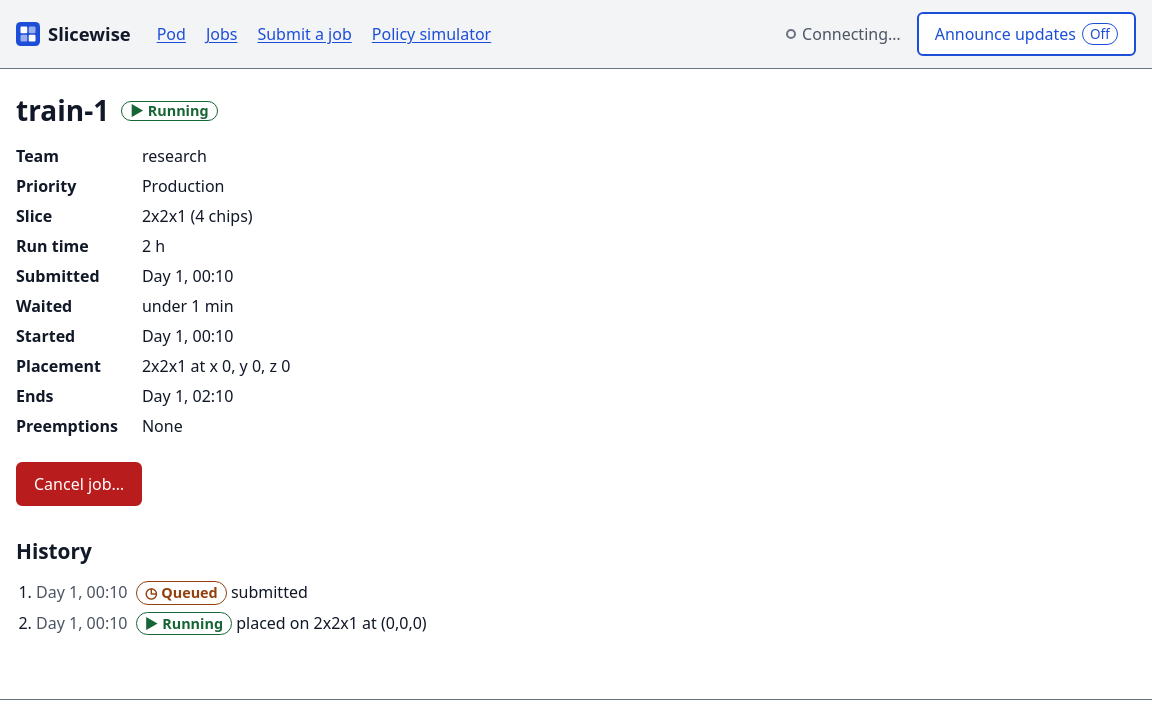
it: job page › confirms before cancelling, then announces it and moves focus to the heading
Expected: the text "2x2x1 at x 0, y 0, z 0" is shown, [142,355,290,377]
What coordinates should you click on to do the following:
click the button "Cancel job…"
I would click on:
 (79, 484)
Its box is [16,462,142,506].
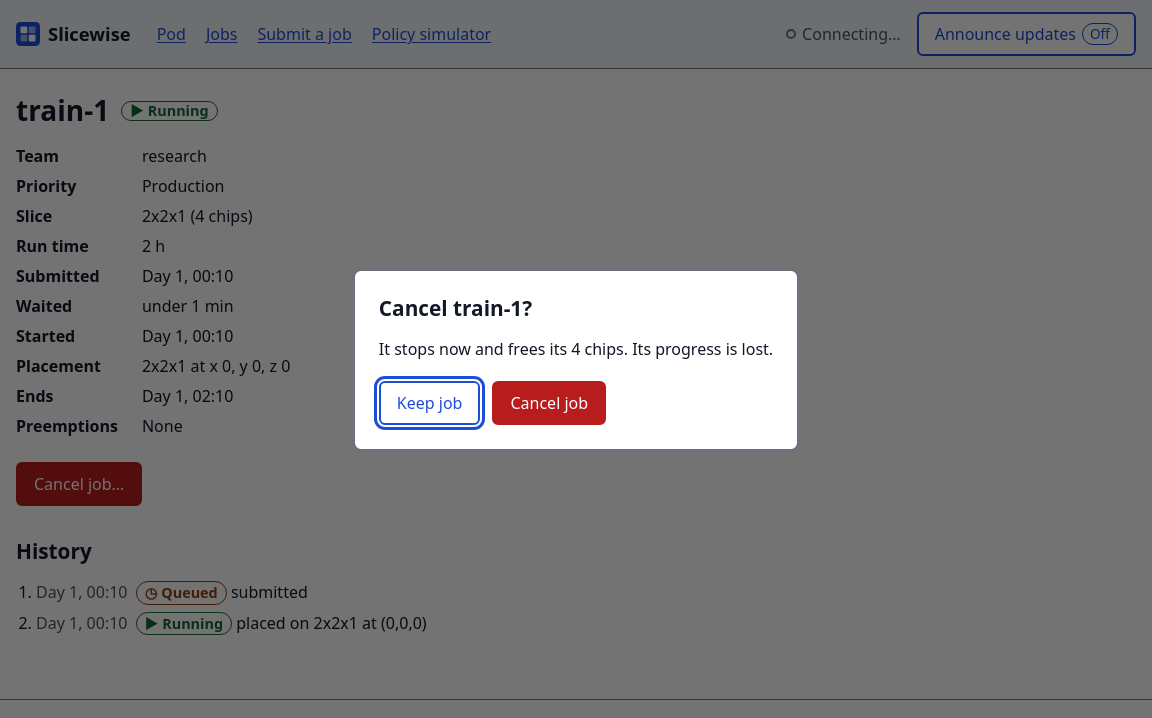
What coordinates should you click on to do the following:
click the button "Keep job"
I would click on:
 (430, 403)
Its box is [379,381,480,425].
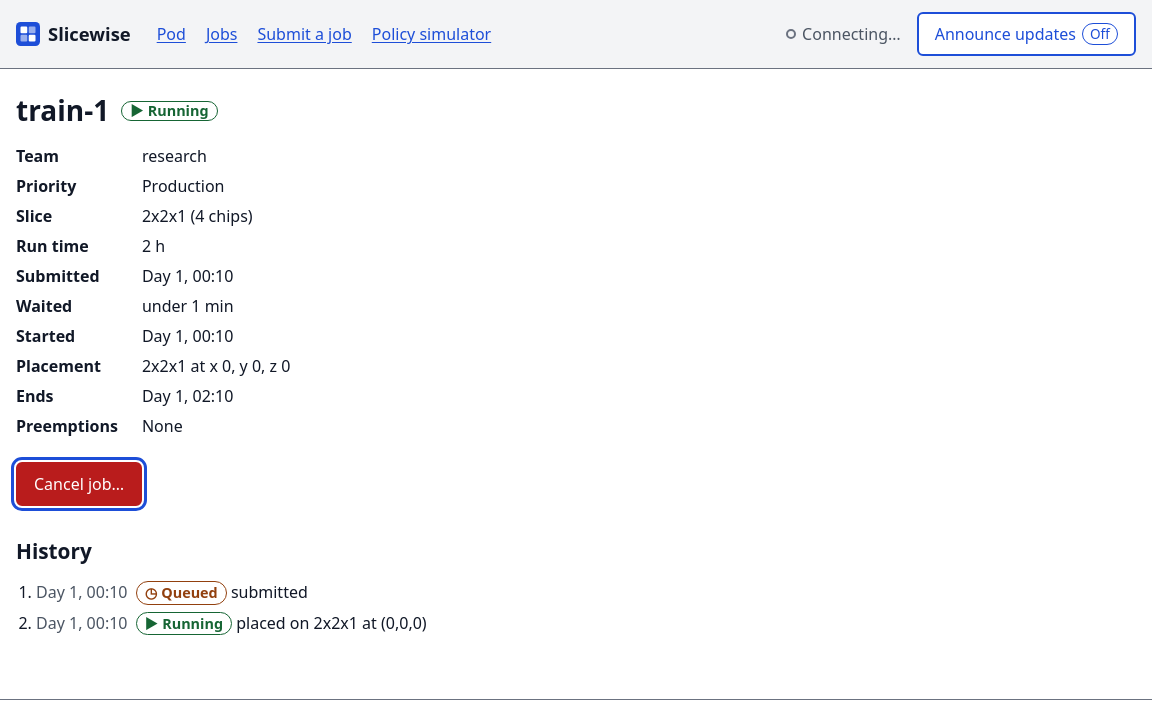
What coordinates should you click on to do the following:
click the button "Cancel job…"
I would click on:
 (79, 484)
Its box is [16,462,142,506].
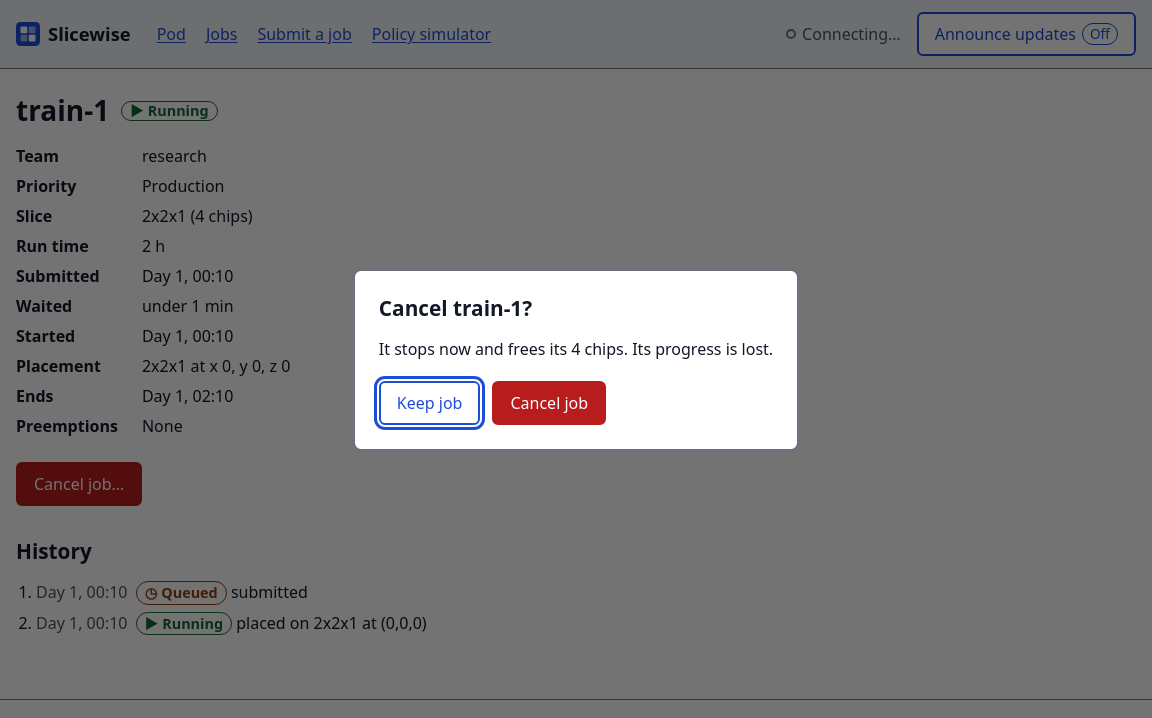
What coordinates should you click on to do the following:
click the button "Cancel job"
I would click on:
 (549, 403)
Its box is [492,381,606,425].
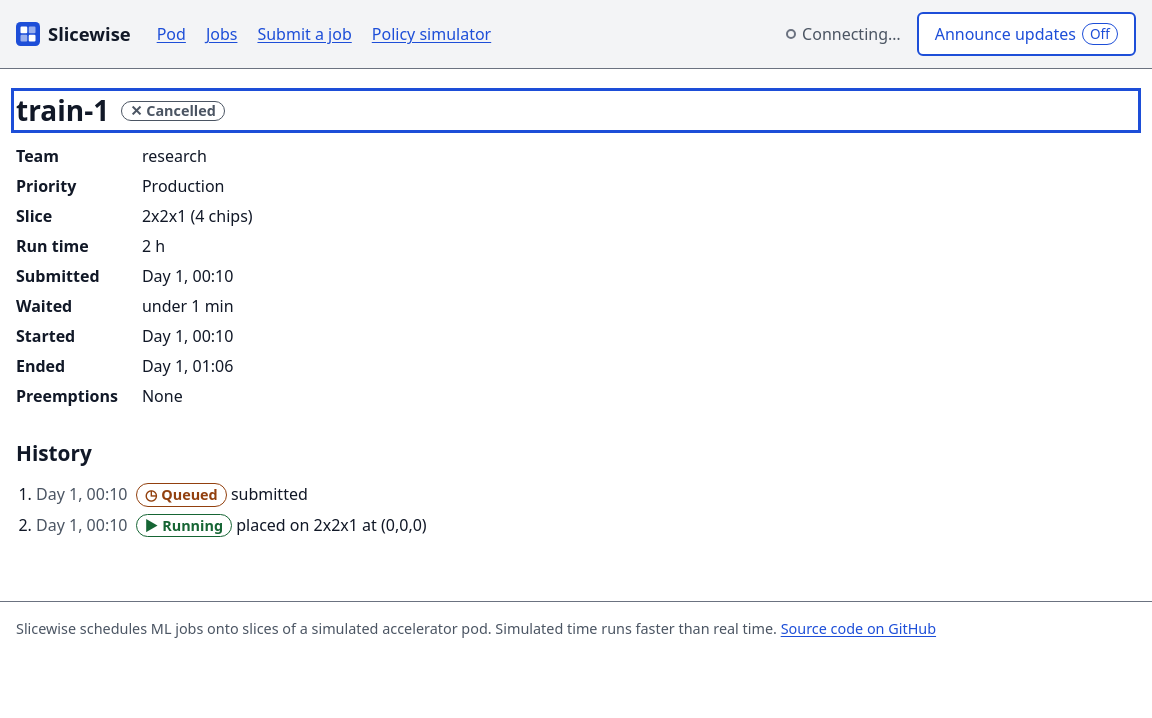
Expected: the button "Cancel job…" is gone
